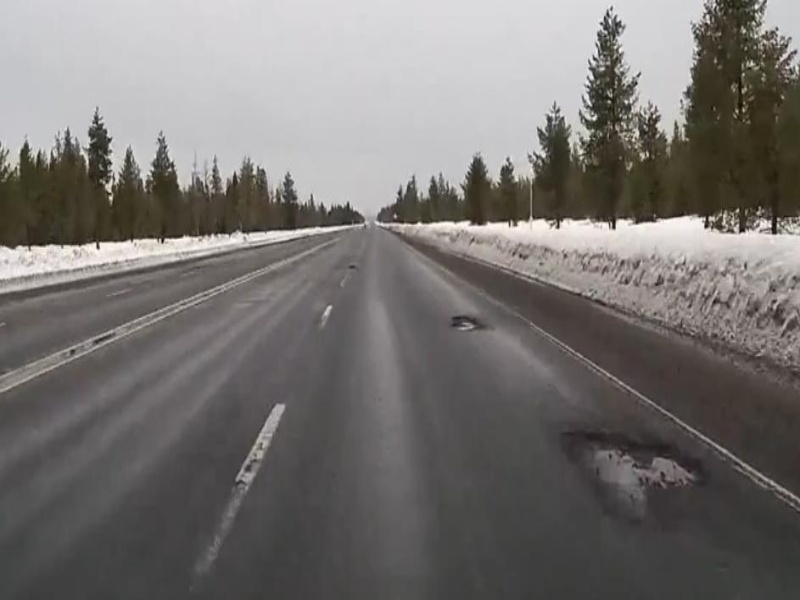pothole: (555, 422, 716, 527), (443, 310, 486, 335)
